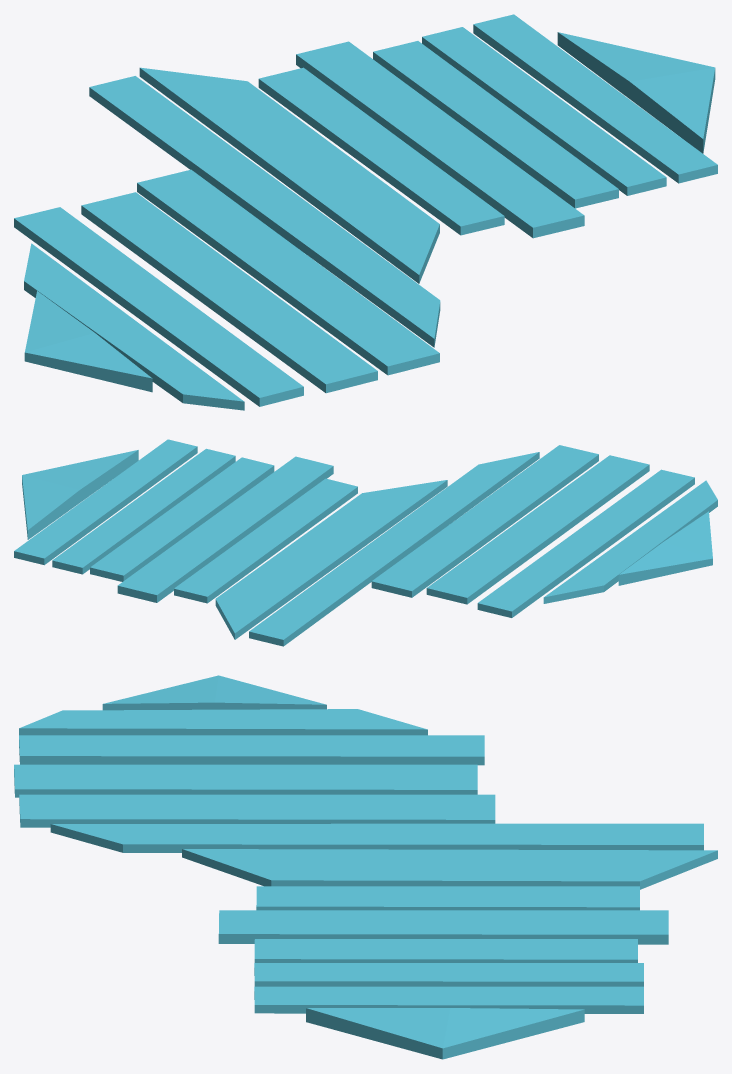
The model's file is water3.fbx.
The picture shows the model from 3 angles, top to bottom: view 1: azimuth 30°, elevation 25°; view 2: azimuth 150°, elevation 25°; view 3: azimuth 270°, elevation 25°; orthographic projection. The views are drawn at different scales.
Parts seen in each view (by area): view 1: Cube.029, Cube.040, Cube.049, Cube.044, Cube.027, Cube.045, Cube.028, Cube.041, Cube.050, Cube.042, Cube.024, Cube.026 (+1 smaller); view 2: Cube.029, Cube.040, Cube.049, Cube.044, Cube.027, Cube.045, Cube.028, Cube.041, Cube.050, Cube.042, Cube.024, Cube.026 (+1 smaller); view 3: Cube.029, Cube.040, Cube.049, Cube.044, Cube.045, Cube.027, Cube.024, Cube.028, Cube.050, Cube.042, Cube.041, Cube.026 (+1 smaller).
Part boxes in pixels (x1=…): Cube.029: x1=139, y1=67, x2=439, y2=283; Cube.040: x1=89, y1=76, x2=440, y2=347; Cube.049: x1=137, y1=169, x2=439, y2=375; Cube.044: x1=81, y1=192, x2=377, y2=393; Cube.027: x1=296, y1=41, x2=584, y2=238; Cube.045: x1=14, y1=207, x2=303, y2=406; Cube.028: x1=258, y1=67, x2=504, y2=235; Cube.041: x1=373, y1=41, x2=618, y2=208; Cube.050: x1=473, y1=14, x2=717, y2=183; Cube.042: x1=422, y1=27, x2=666, y2=195; Cube.024: x1=24, y1=243, x2=244, y2=410; Cube.026: x1=557, y1=32, x2=715, y2=153; Cube.029: x1=215, y1=480, x2=447, y2=639; Cube.040: x1=249, y1=452, x2=539, y2=646; Cube.049: x1=371, y1=445, x2=598, y2=597; Cube.044: x1=426, y1=455, x2=649, y2=604; Cube.027: x1=117, y1=456, x2=333, y2=602; Cube.045: x1=477, y1=469, x2=694, y2=617; Cube.028: x1=174, y1=478, x2=357, y2=603; Cube.041: x1=90, y1=457, x2=274, y2=581; Cube.050: x1=14, y1=439, x2=197, y2=565; Cube.042: x1=52, y1=448, x2=235, y2=574; Cube.024: x1=543, y1=480, x2=717, y2=603; Cube.026: x1=22, y1=450, x2=138, y2=539; Cube.029: x1=182, y1=849, x2=717, y2=889; Cube.040: x1=50, y1=823, x2=703, y2=852; Cube.049: x1=19, y1=794, x2=495, y2=827; Cube.044: x1=14, y1=764, x2=477, y2=797; Cube.045: x1=19, y1=735, x2=484, y2=765; Cube.027: x1=218, y1=910, x2=668, y2=944; Cube.024: x1=19, y1=709, x2=427, y2=735; Cube.028: x1=256, y1=886, x2=639, y2=910; Cube.050: x1=254, y1=986, x2=643, y2=1013; Cube.042: x1=254, y1=963, x2=643, y2=986; Cube.041: x1=254, y1=939, x2=637, y2=962; Cube.026: x1=306, y1=1008, x2=584, y2=1059.
Bounding box in the file's own units: 305 × 5.99 × 243.
